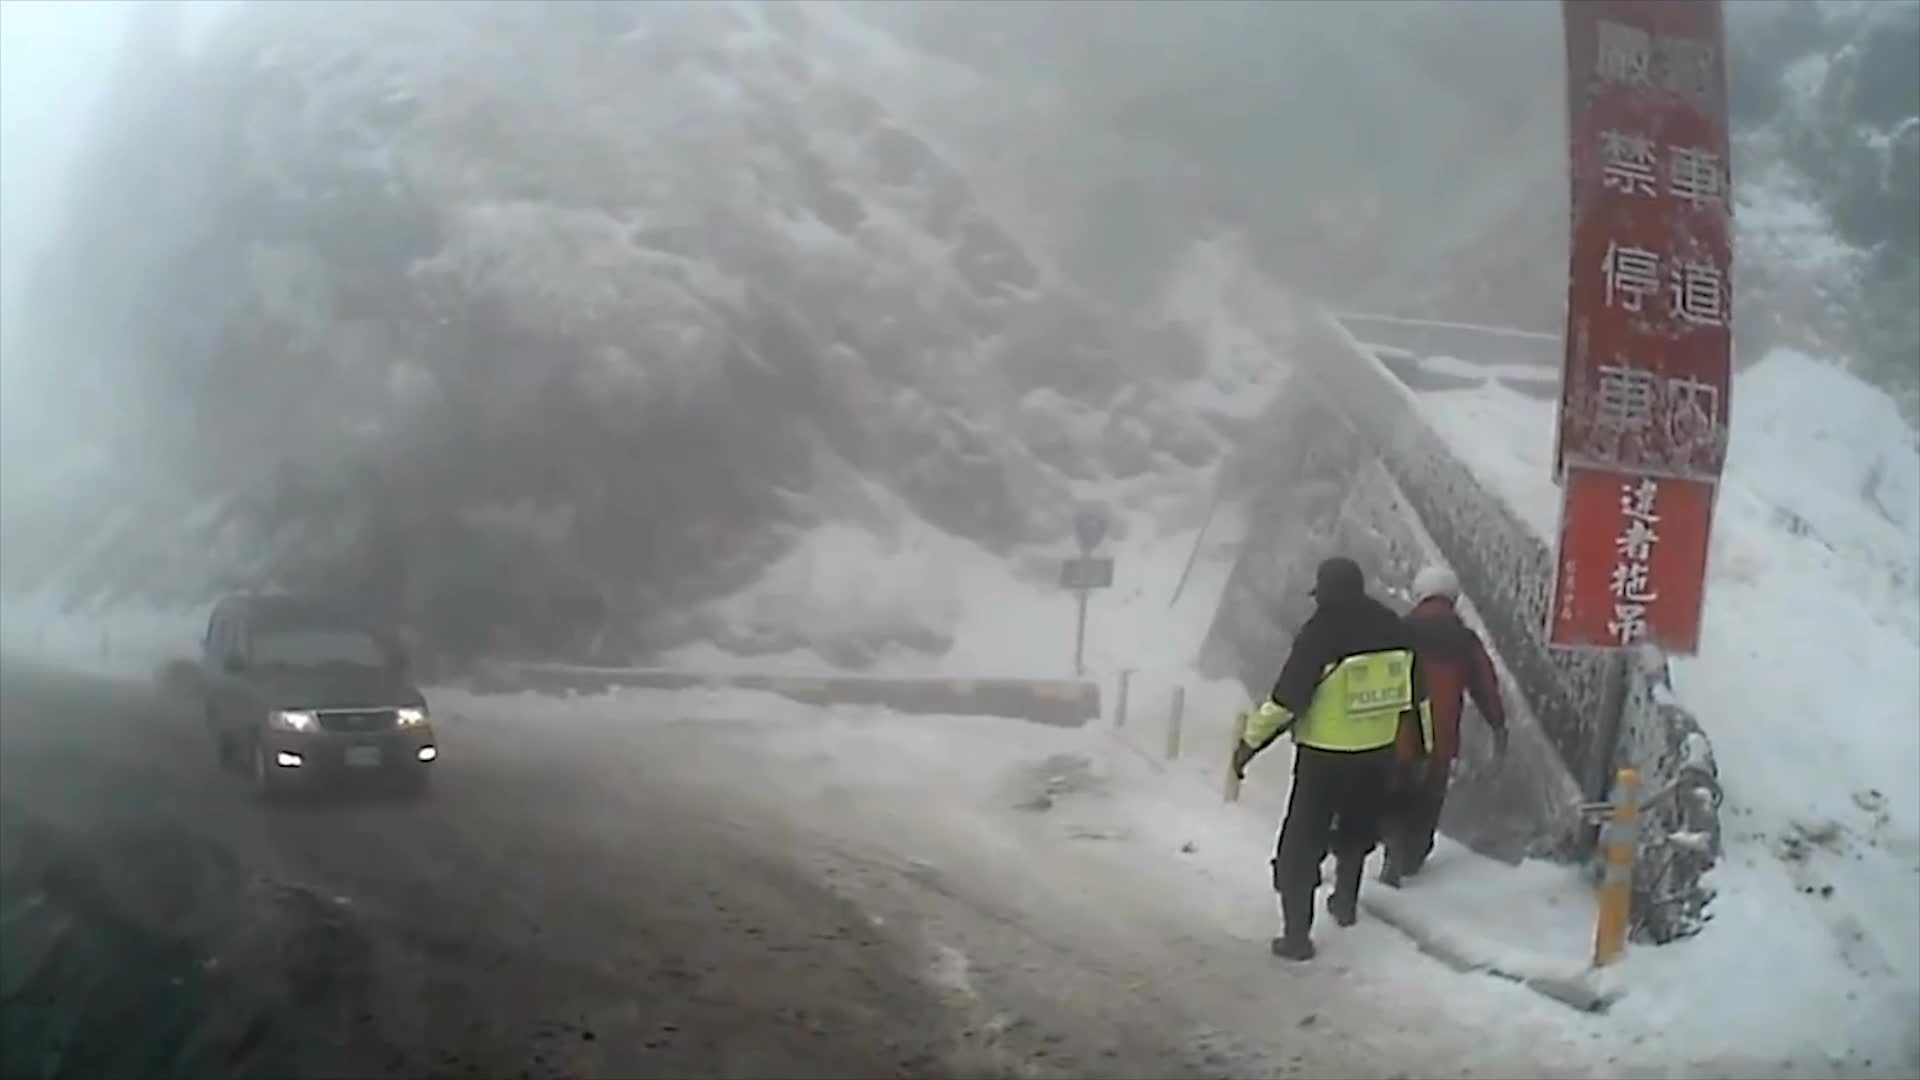pedestrian: (1233, 558, 1422, 964), (1370, 561, 1509, 881)
vehicle: (199, 594, 437, 804)
